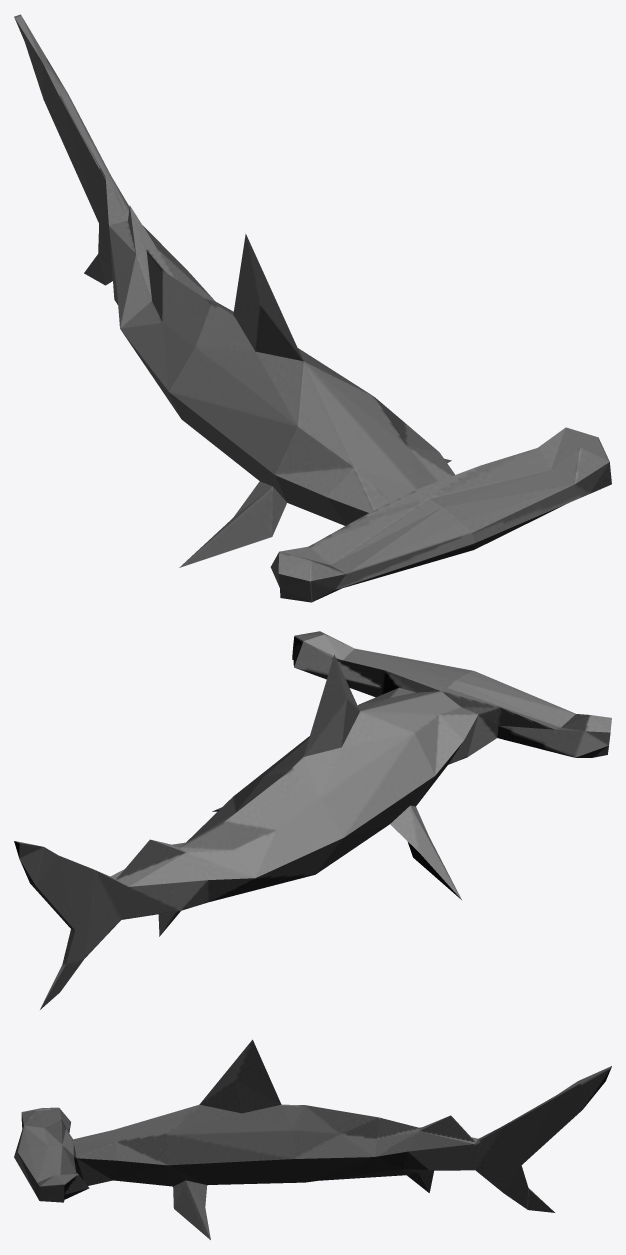
File: shark.gltf
3 renders of one model, top to bottom at view 1: azimuth 30°, elevation 25°; view 2: azimuth 150°, elevation 25°; view 3: azimuth 270°, elevation 25°, orthographic. The views are drawn at different scales.
Parts seen in each view (by area): view 1: Cube (Copy).1; view 2: Cube (Copy).1; view 3: Cube (Copy).1.
Boxes of the visible parts, x1,y1,x2,y2 form: Cube (Copy).1: [14, 14, 611, 602]; Cube (Copy).1: [14, 631, 611, 1009]; Cube (Copy).1: [14, 1039, 611, 1239].
Bounding box in the file's own units: 149 × 117 × 368.
Materials: 1 (1 with a texture image).
